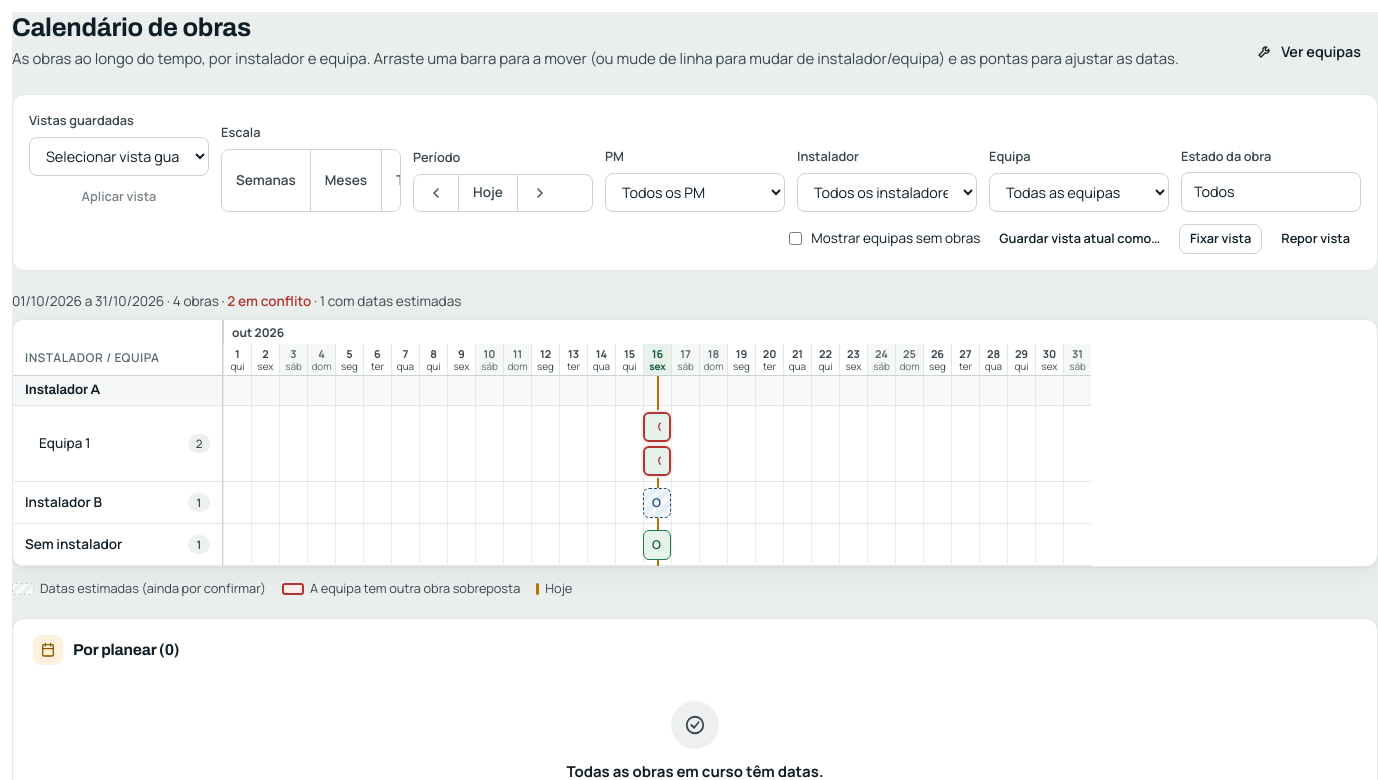
it: Works (calendário de obras) › só mostra sucesso ao fixar depois do PATCH confirmado e envia o DTO completo
Select "PM Um" in the dropdown labelled "PM": (695, 192) [605, 173, 785, 212]
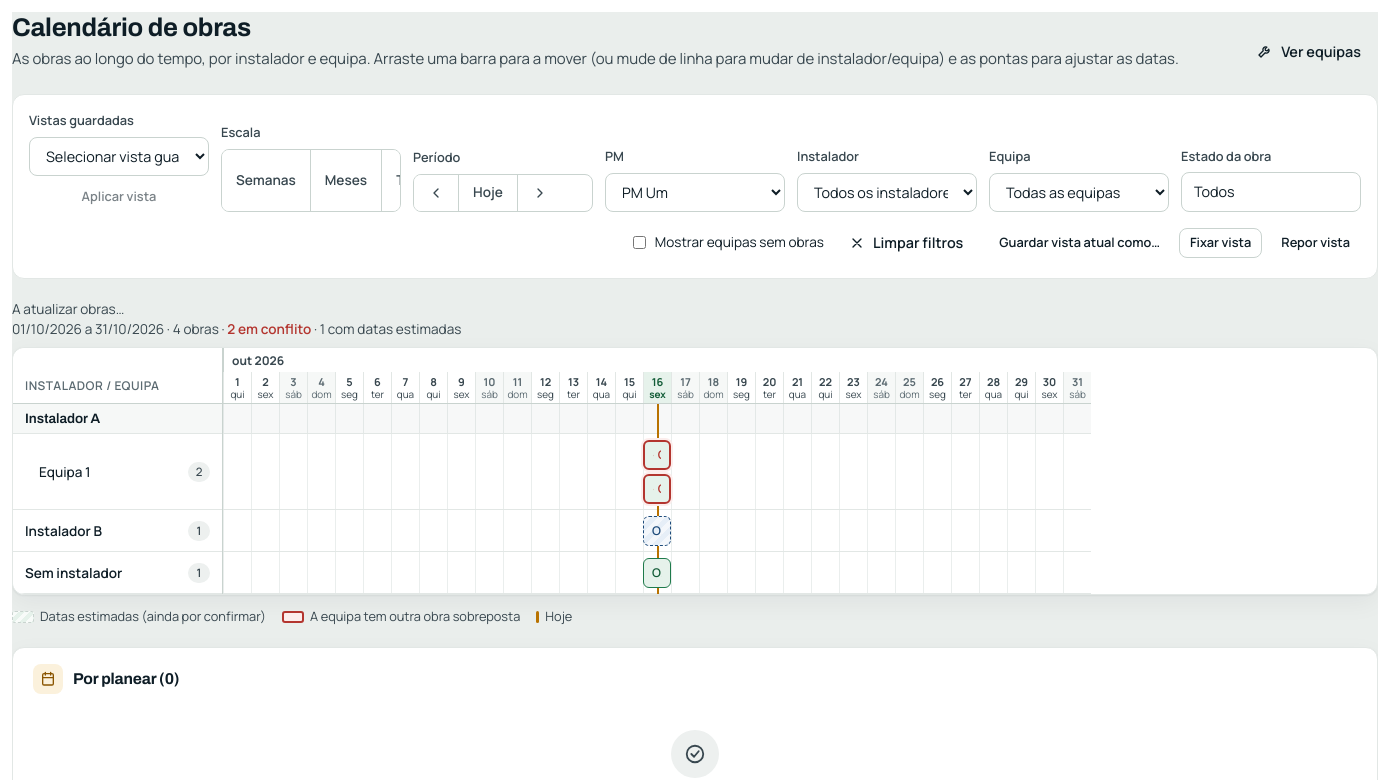
Click the button "Fixar vista": (1221, 243) [1179, 228, 1262, 258]
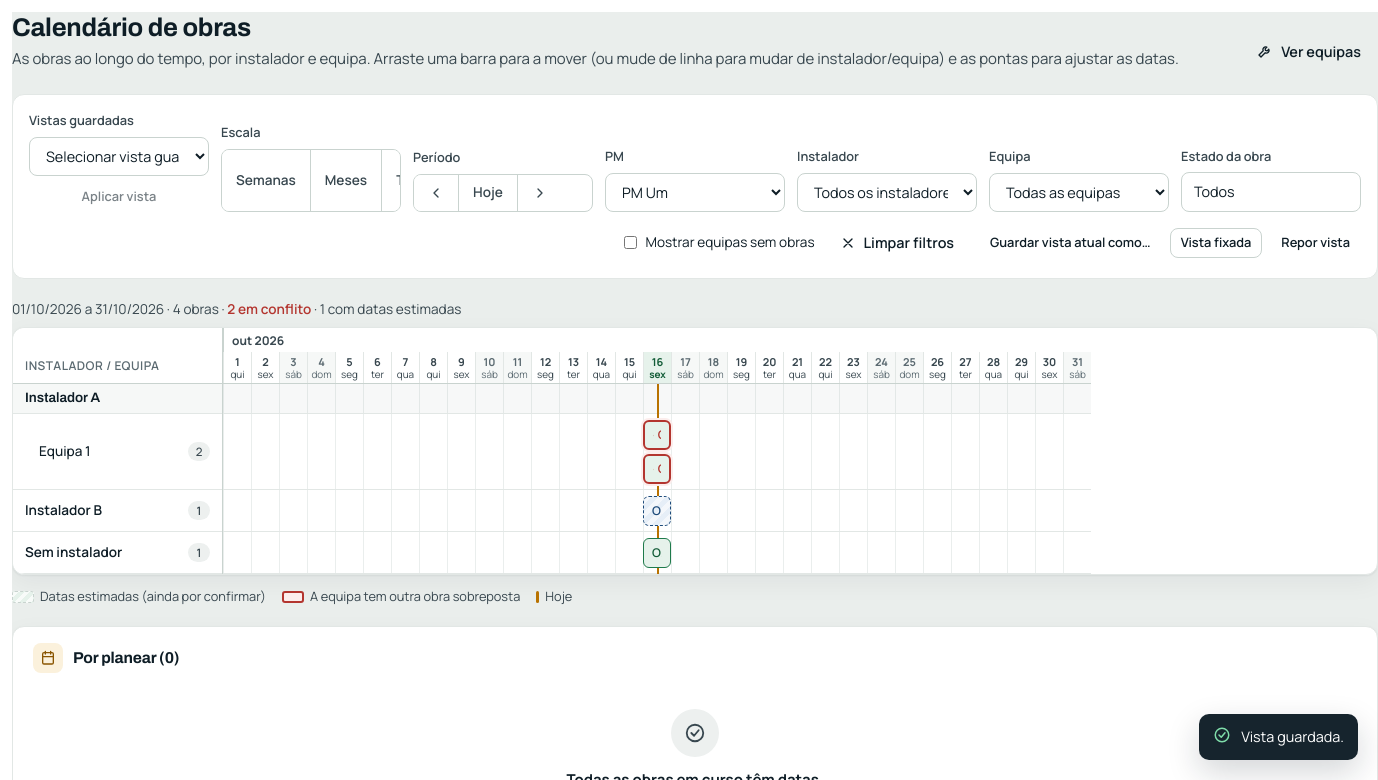
Check: the text "Vista guardada." is shown, box [1241, 726, 1344, 748]
